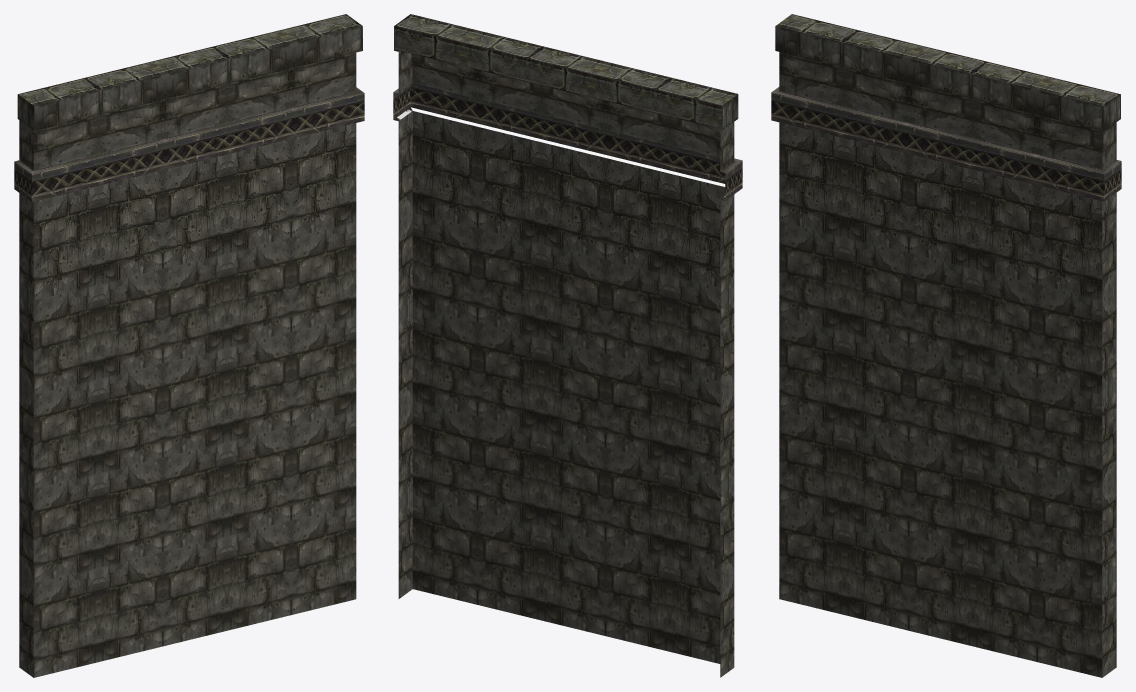
File: S_Build_Muxue068.FBX
3 views of the same model, side by side, from view 1: azimuth 30°, elevation 25°; view 2: azimuth 150°, elevation 25°; view 3: azimuth 330°, elevation 25° (orthographic).
Visible parts, largest first — view 1: S_Build_Muxue068; view 2: S_Build_Muxue068; view 3: S_Build_Muxue068.
Part boxes in pixels (bbox=[...]): S_Build_Muxue068: bbox=[14, 14, 364, 677]; S_Build_Muxue068: bbox=[393, 14, 742, 677]; S_Build_Muxue068: bbox=[771, 14, 1121, 677].
Bounding box in the file's own units: 1524 × 2512 × 138.
